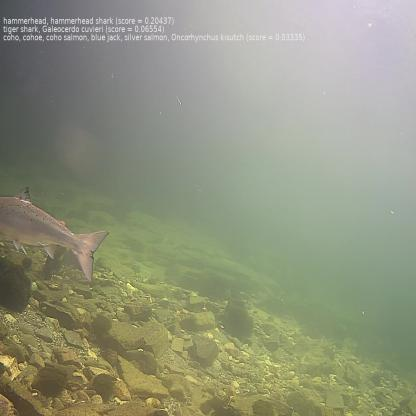salmon: (0, 184, 112, 284)
